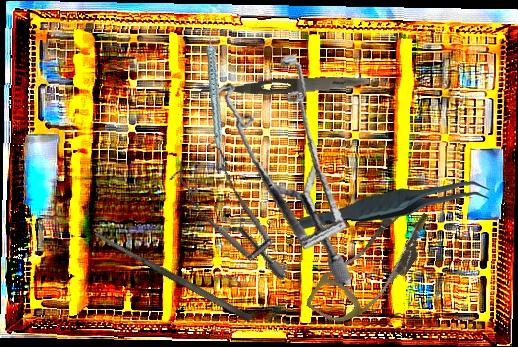Cannula: (304, 185, 440, 342)
Dressing Forceps: (189, 72, 370, 102)
Handpiece: (190, 27, 242, 149)
Spatula Surgical: (92, 229, 254, 324)
Speculum: (186, 41, 389, 287), (149, 130, 326, 281)
Tissue Forceps: (299, 174, 490, 237)
